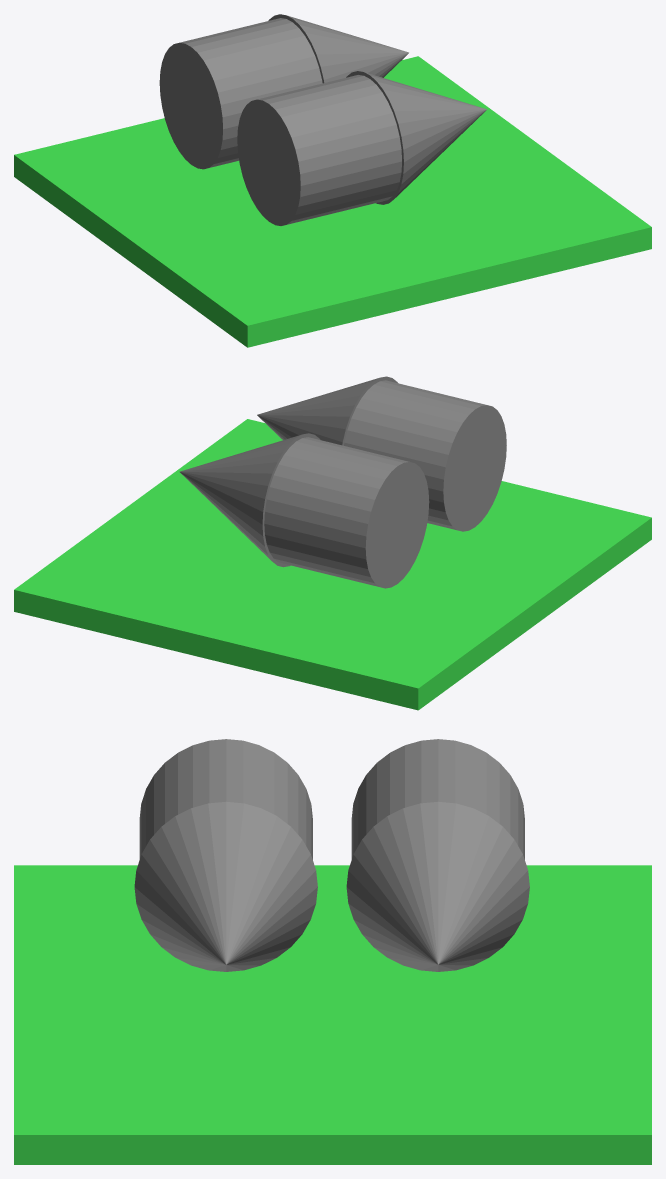
File: Double_bullet.fbx
The picture shows the model from 3 angles, top to bottom: view 1: azimuth 30°, elevation 25°; view 2: azimuth 150°, elevation 25°; view 3: azimuth 270°, elevation 25°; orthographic projection. The views are drawn at different scales.
Visible parts, largest first — view 1: Cube.004, Cylinder, Cylinder.001, Cone, Cone.001; view 2: Cube.004, Cylinder.001, Cylinder, Cone.001, Cone; view 3: Cube.004, Cone, Cone.001, Cylinder.001, Cylinder.
Part boxes in pixels (<box>): Cube.004: <box>14,56,651,347</box>; Cylinder: <box>237,75,401,225</box>; Cylinder.001: <box>159,18,322,169</box>; Cone: <box>346,71,486,204</box>; Cone.001: <box>268,14,408,83</box>; Cube.004: <box>14,419,651,710</box>; Cylinder.001: <box>264,437,429,588</box>; Cylinder: <box>344,380,506,531</box>; Cone.001: <box>179,433,320,567</box>; Cone: <box>257,376,397,445</box>; Cube.004: <box>14,865,651,1164</box>; Cone: <box>134,801,317,971</box>; Cone.001: <box>346,801,529,971</box>; Cylinder.001: <box>351,739,524,859</box>; Cylinder: <box>139,739,312,859</box>.
Bounding box in the file's own units: 233 × 91.7 × 233.
